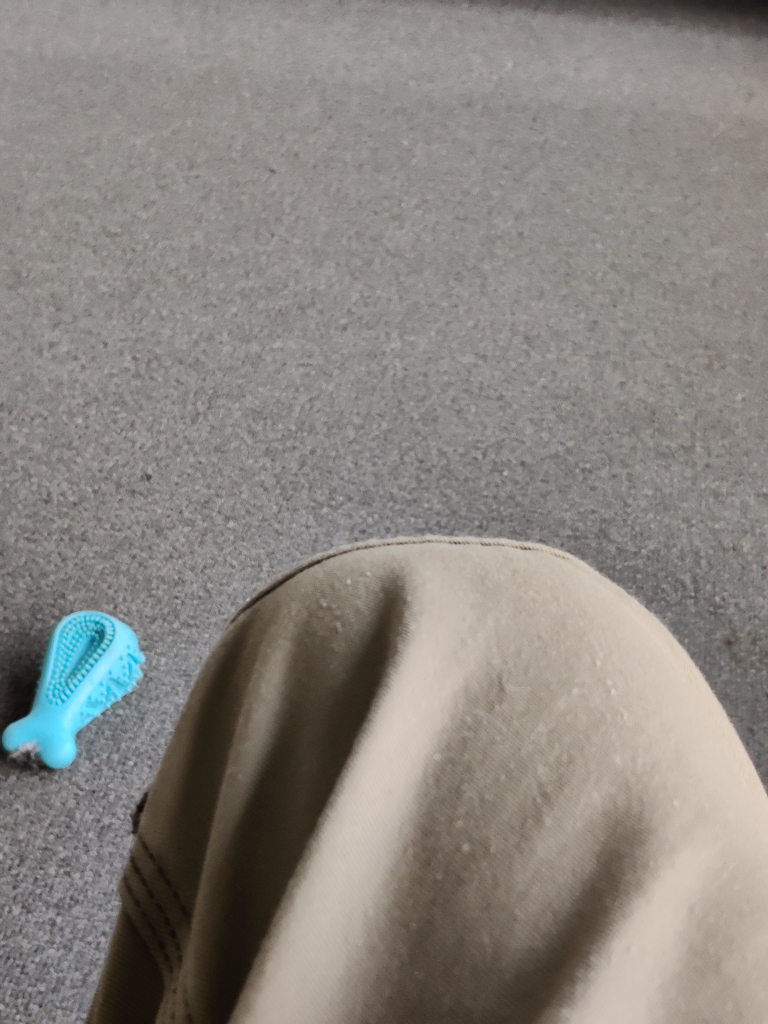Humanoid: (56, 523, 768, 1024)
